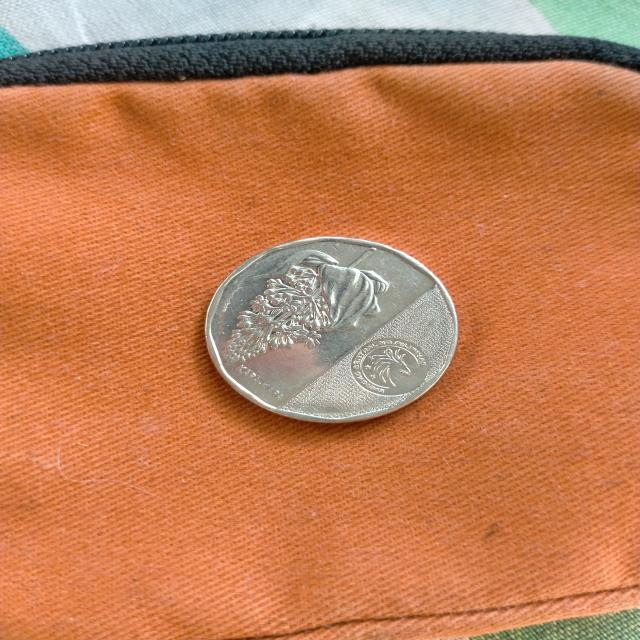10_New_Back: (213, 245, 397, 367)
